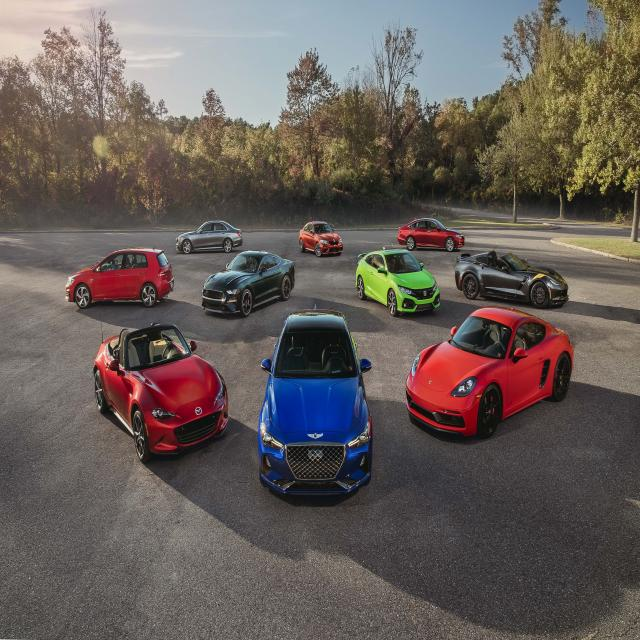car: (256, 304, 374, 508), (405, 305, 577, 438), (88, 322, 229, 466), (60, 243, 176, 310), (355, 245, 441, 323), (452, 251, 574, 303), (201, 248, 294, 314), (398, 216, 464, 253), (173, 220, 244, 252), (298, 215, 343, 263)
